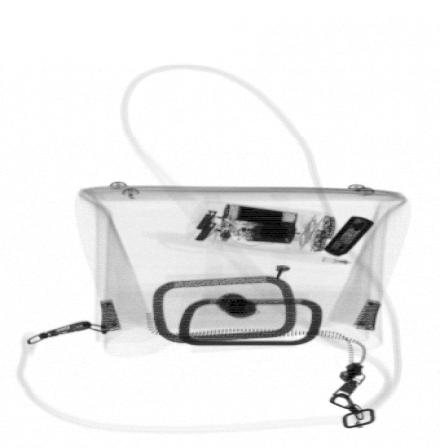Lighter: (323, 216, 376, 257)
